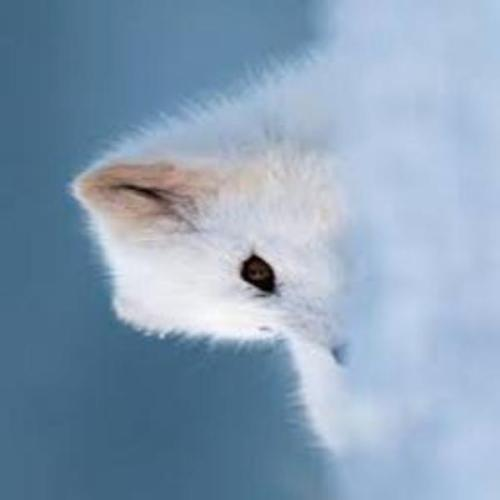arctic_fox-endangered: (68, 52, 350, 452)
